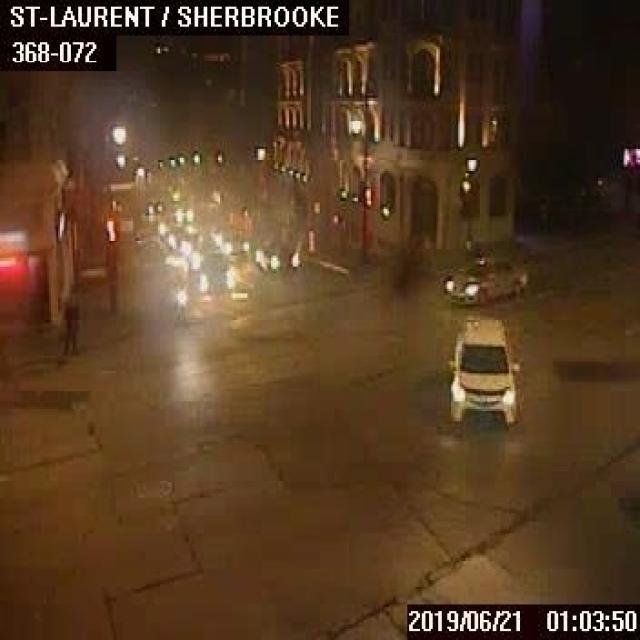pedestrian: (60, 298, 78, 356)
vehicle: (444, 314, 518, 422), (438, 254, 521, 301), (254, 233, 298, 270), (198, 249, 234, 292), (220, 227, 248, 254), (173, 276, 188, 320)
